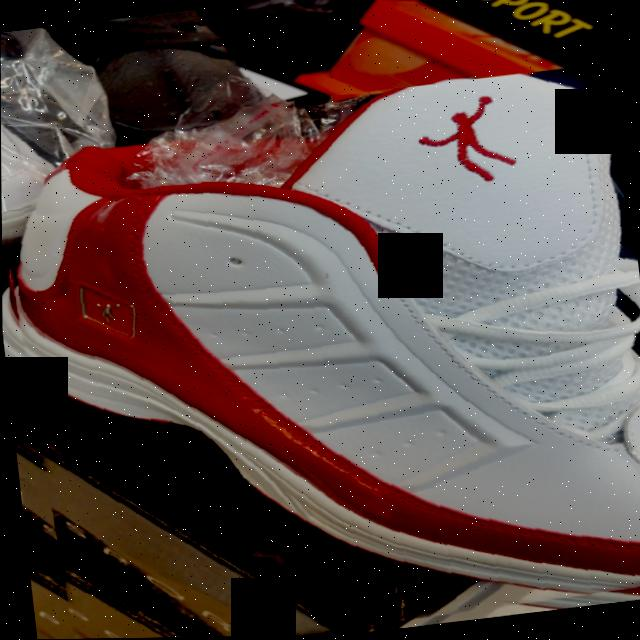shoe: (0, 64, 640, 640)
